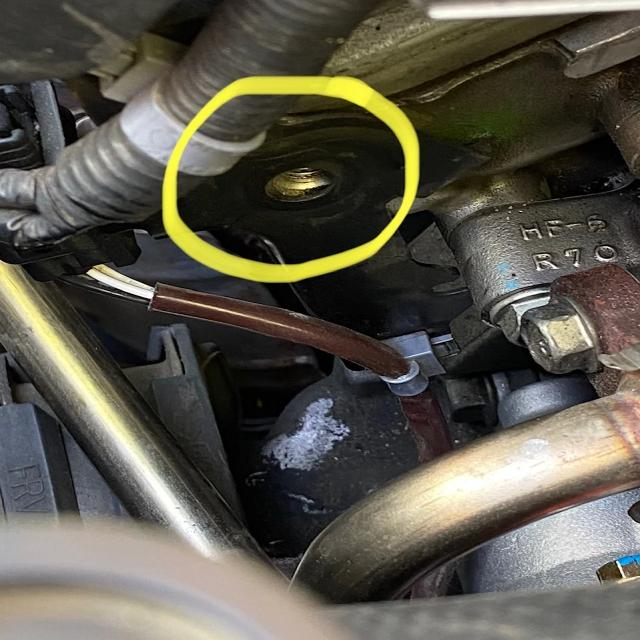Missing bolt: (251, 153, 357, 224)
Regular bolt: (520, 297, 611, 378), (595, 555, 640, 591)
